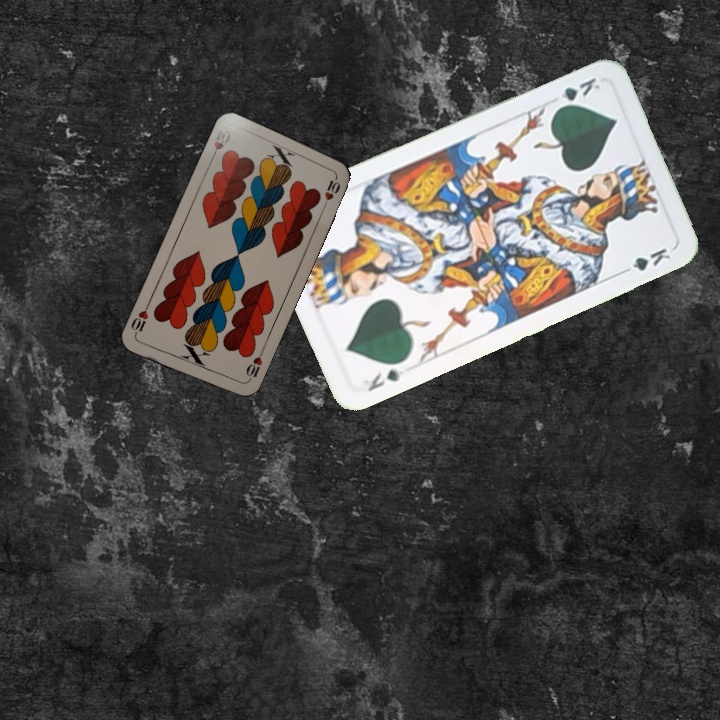GK: (551, 73, 603, 113), (364, 365, 407, 394)
H10: (207, 123, 234, 163), (242, 347, 266, 385)
